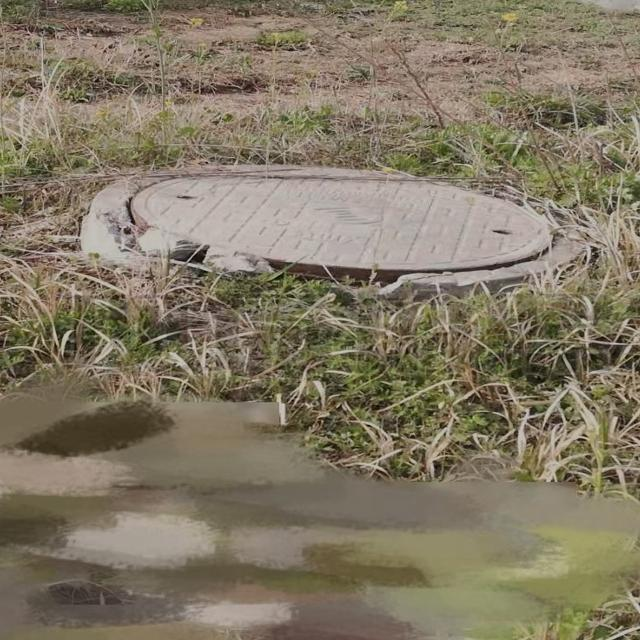circle: (86, 155, 620, 300)
